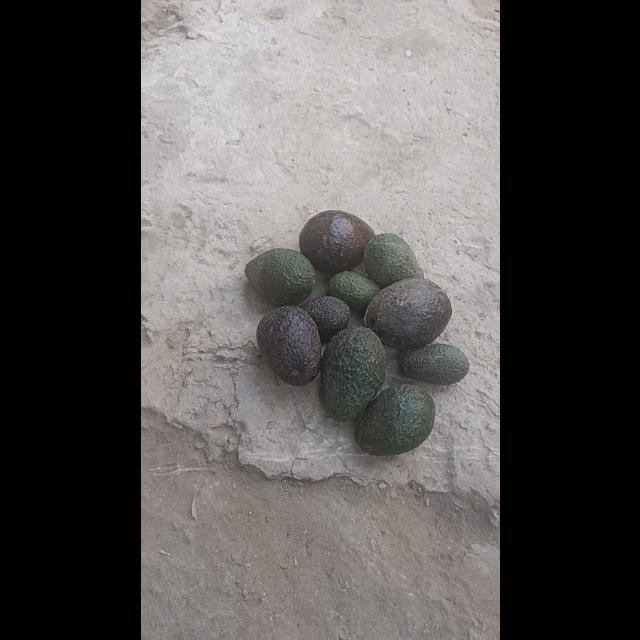Primera: (318, 325, 388, 419), (365, 276, 451, 348), (355, 384, 433, 454), (255, 304, 321, 384), (297, 208, 375, 274)
Segunda: (244, 247, 316, 307), (361, 232, 423, 286)
Tercera: (400, 342, 470, 384), (297, 294, 349, 344), (328, 270, 380, 314)
